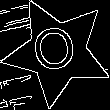O_S: (32, 23, 83, 81)
